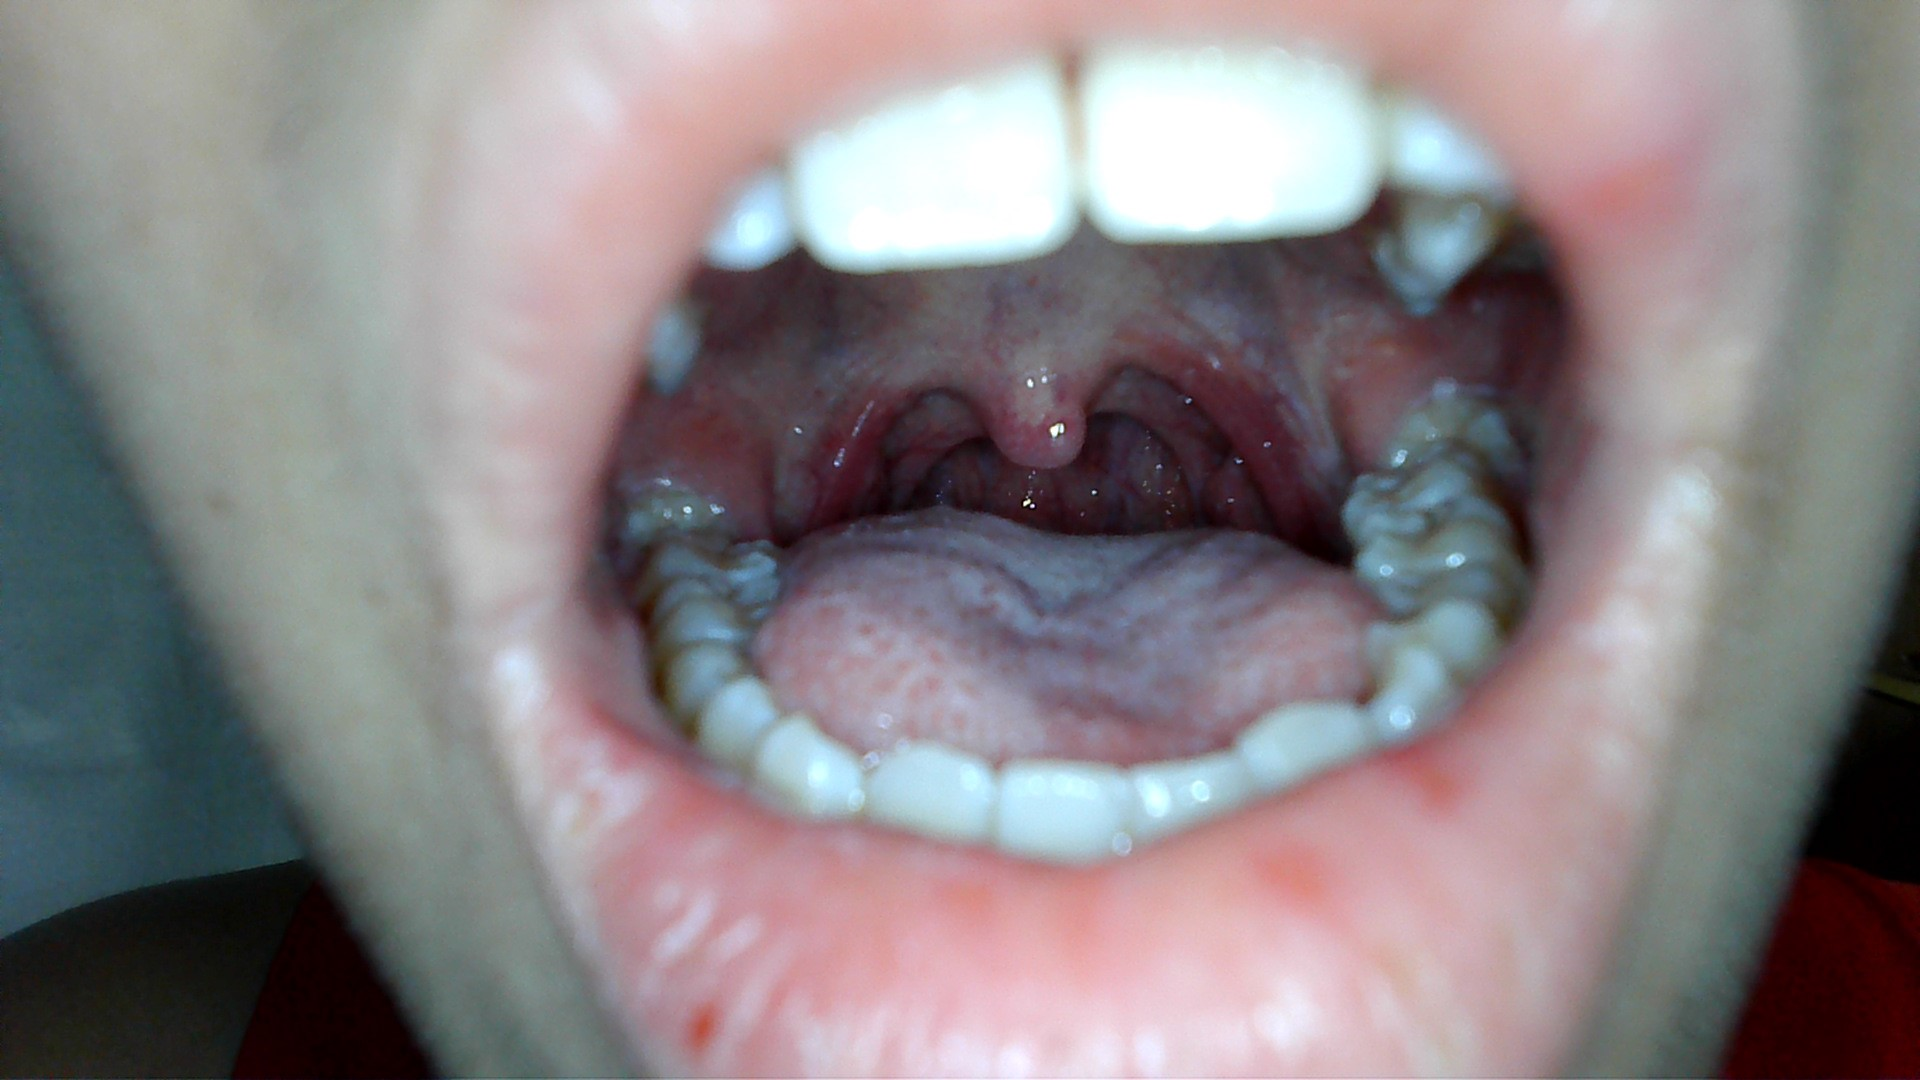throat: (1189, 332, 1302, 520), (786, 344, 890, 516)
